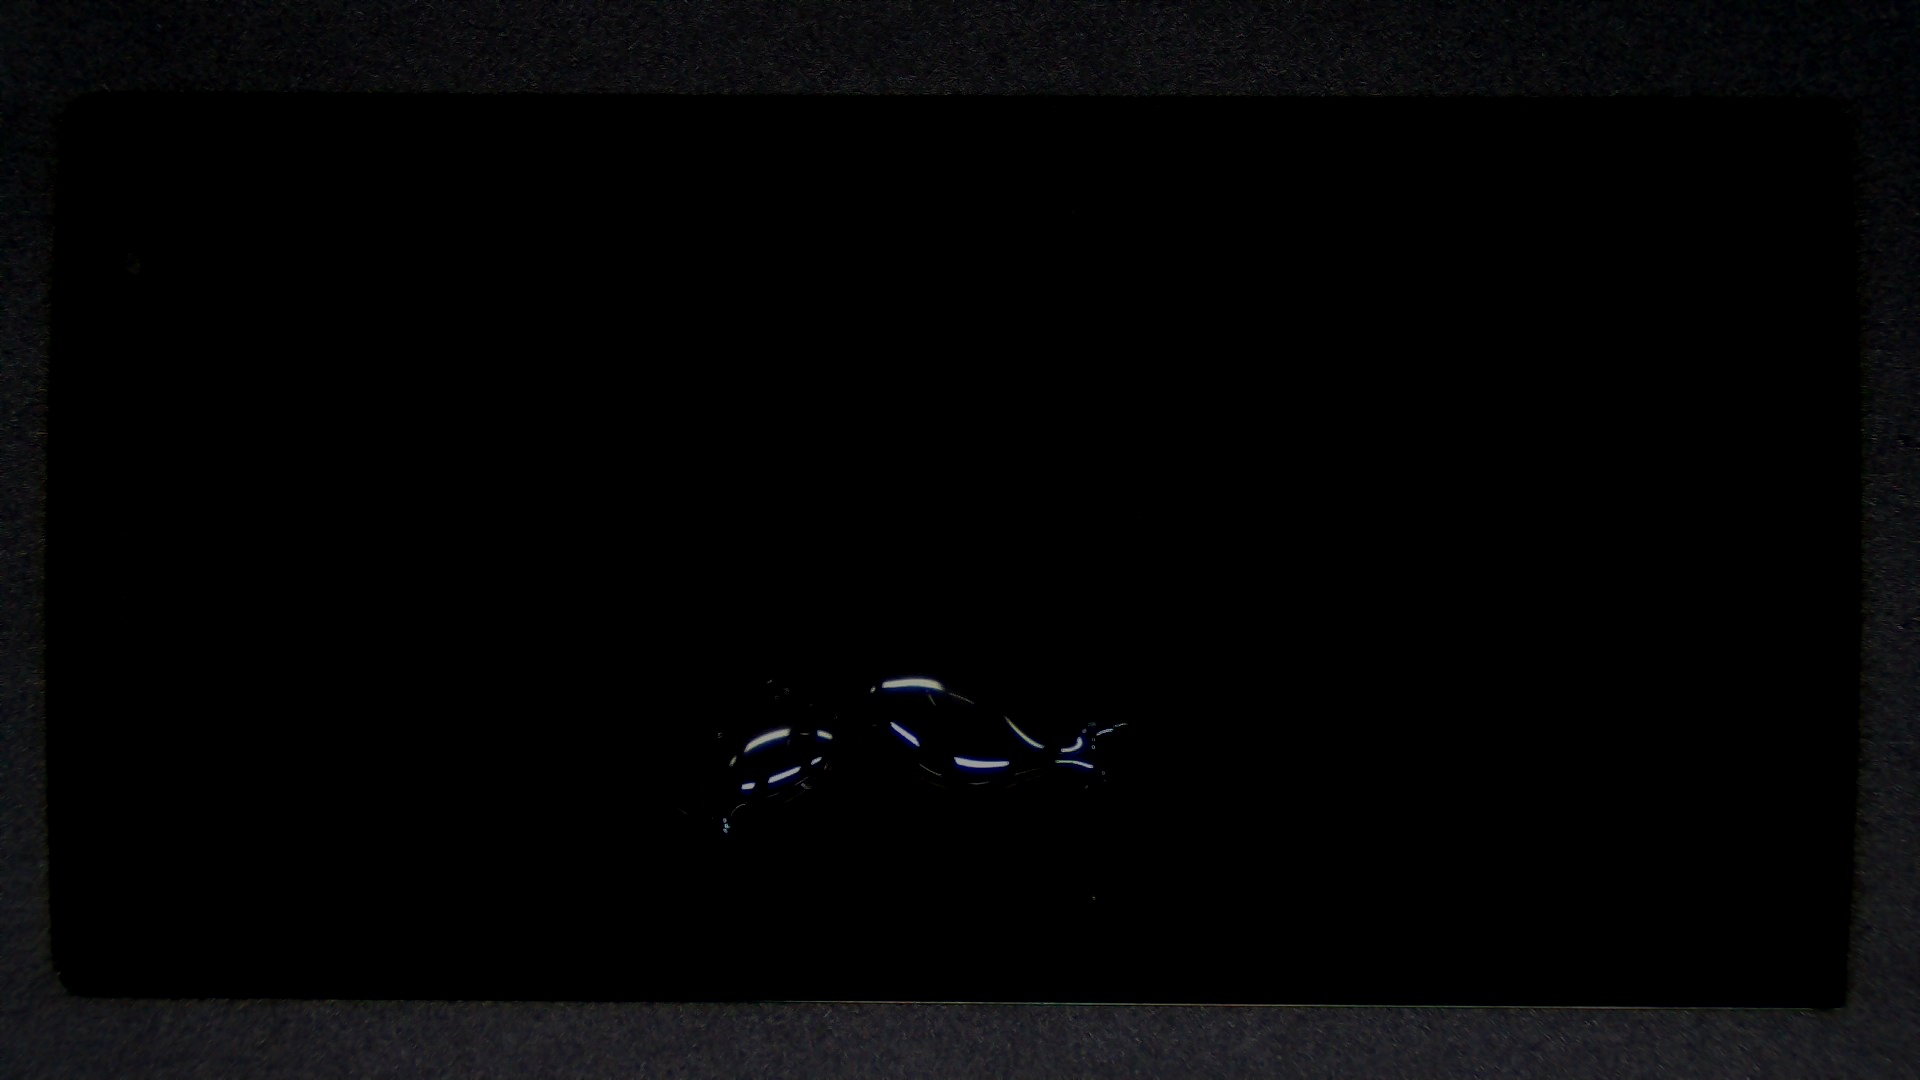oil: (460, 330, 1378, 990), (390, 355, 1168, 1067)
